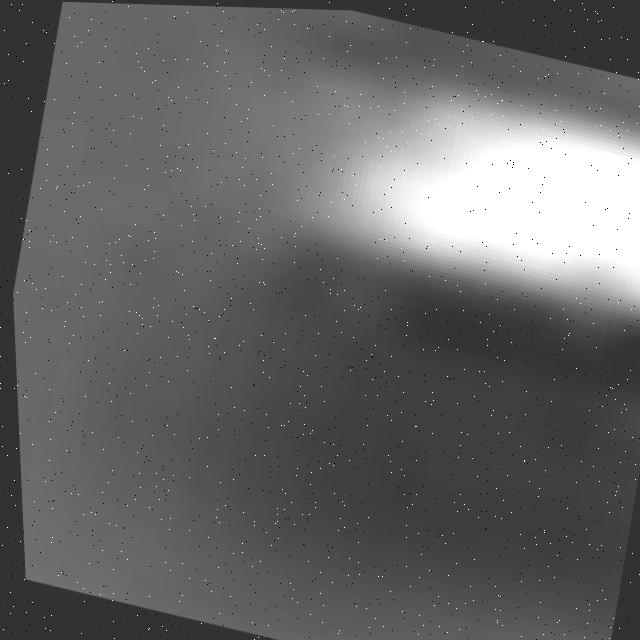person: (208, 6, 640, 362)
